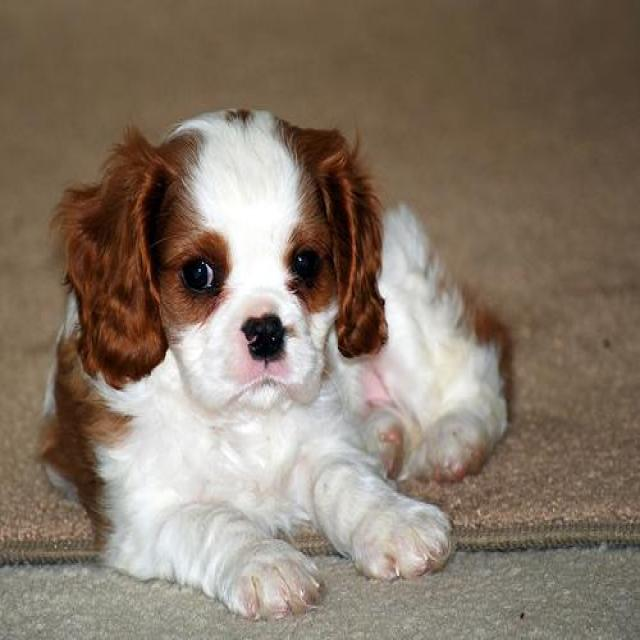blenheim_spaniel: (32, 106, 513, 619)
